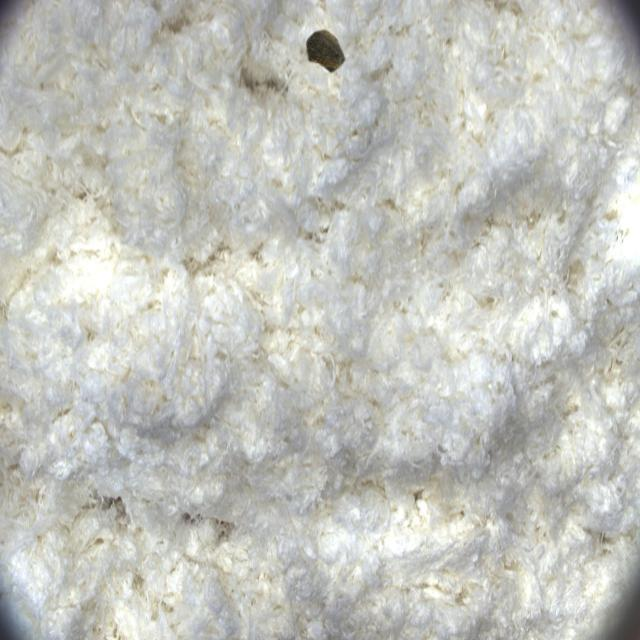dust: (296, 6, 366, 101)
